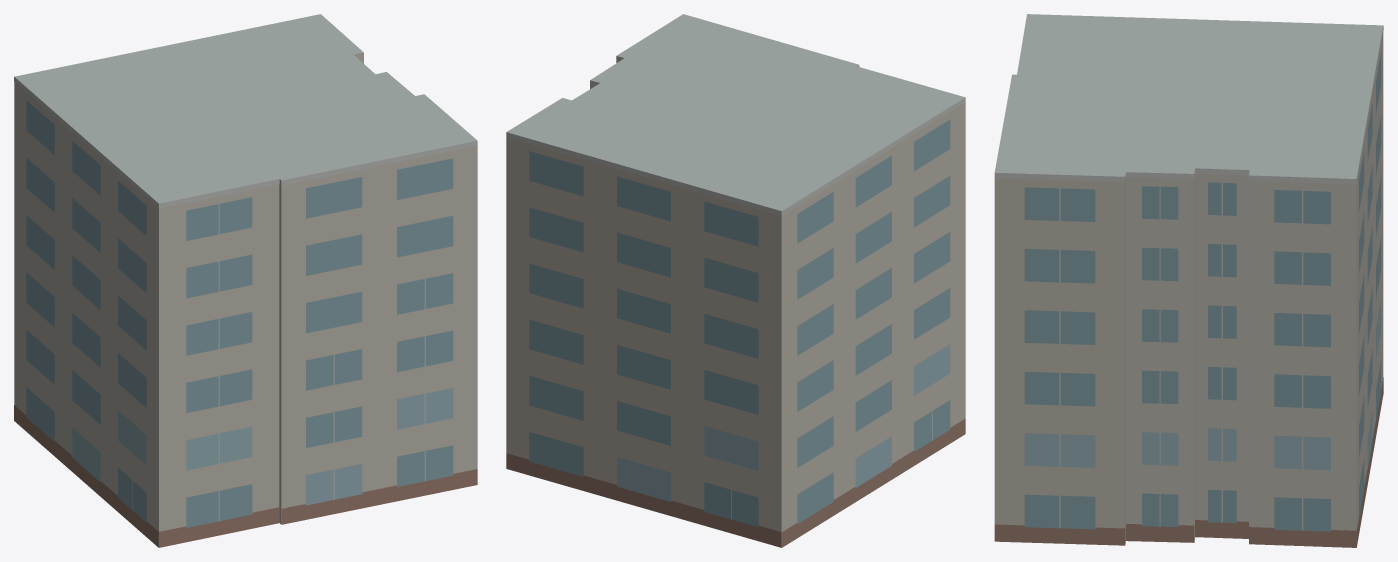
The model's file is survey-upis-32757166.glb.
3 views of the same model, side by side, from view 1: azimuth 30°, elevation 25°; view 2: azimuth 150°, elevation 25°; view 3: azimuth 270°, elevation 25° (orthographic). The views are drawn at different scales.
Parts seen in each view (by area): view 1: survey-upis-32757166.tmp; view 2: survey-upis-32757166.tmp; view 3: survey-upis-32757166.tmp.
Part boxes in pixels (<box>): survey-upis-32757166.tmp: <box>14,14,477,547</box>; survey-upis-32757166.tmp: <box>506,14,965,547</box>; survey-upis-32757166.tmp: <box>994,14,1383,547</box>.
Size of the model in its own units: 16.04 by 16.7 by 15.97.
